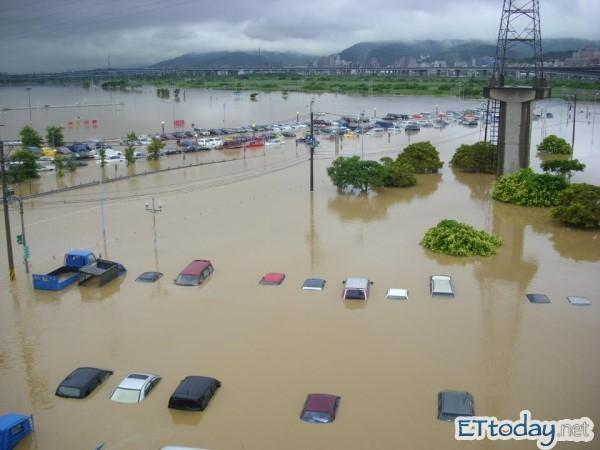water: (0, 128, 599, 449), (31, 80, 482, 149), (17, 139, 307, 191), (530, 98, 569, 168), (574, 101, 598, 182), (0, 86, 28, 139)
